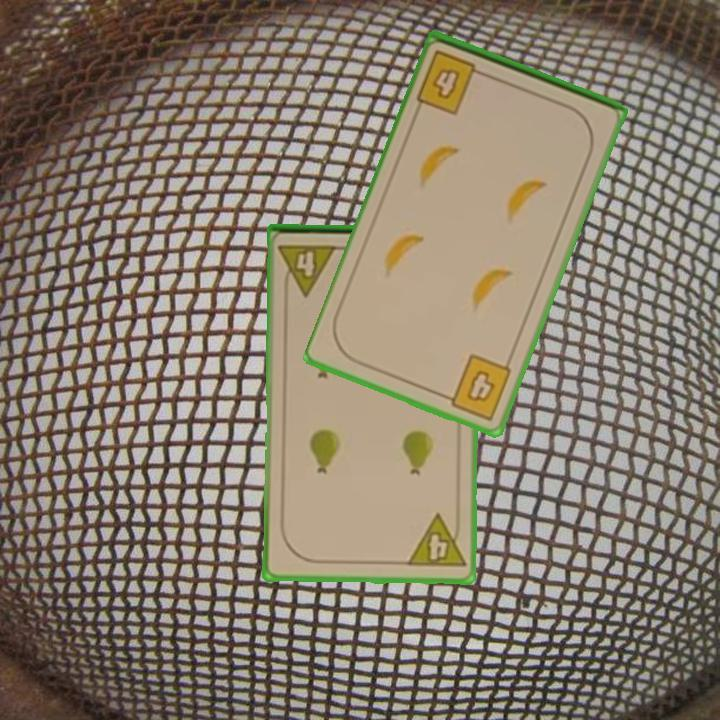4b: (438, 350, 515, 424), (413, 46, 492, 118)
4p: (403, 511, 468, 571), (275, 241, 340, 298)
